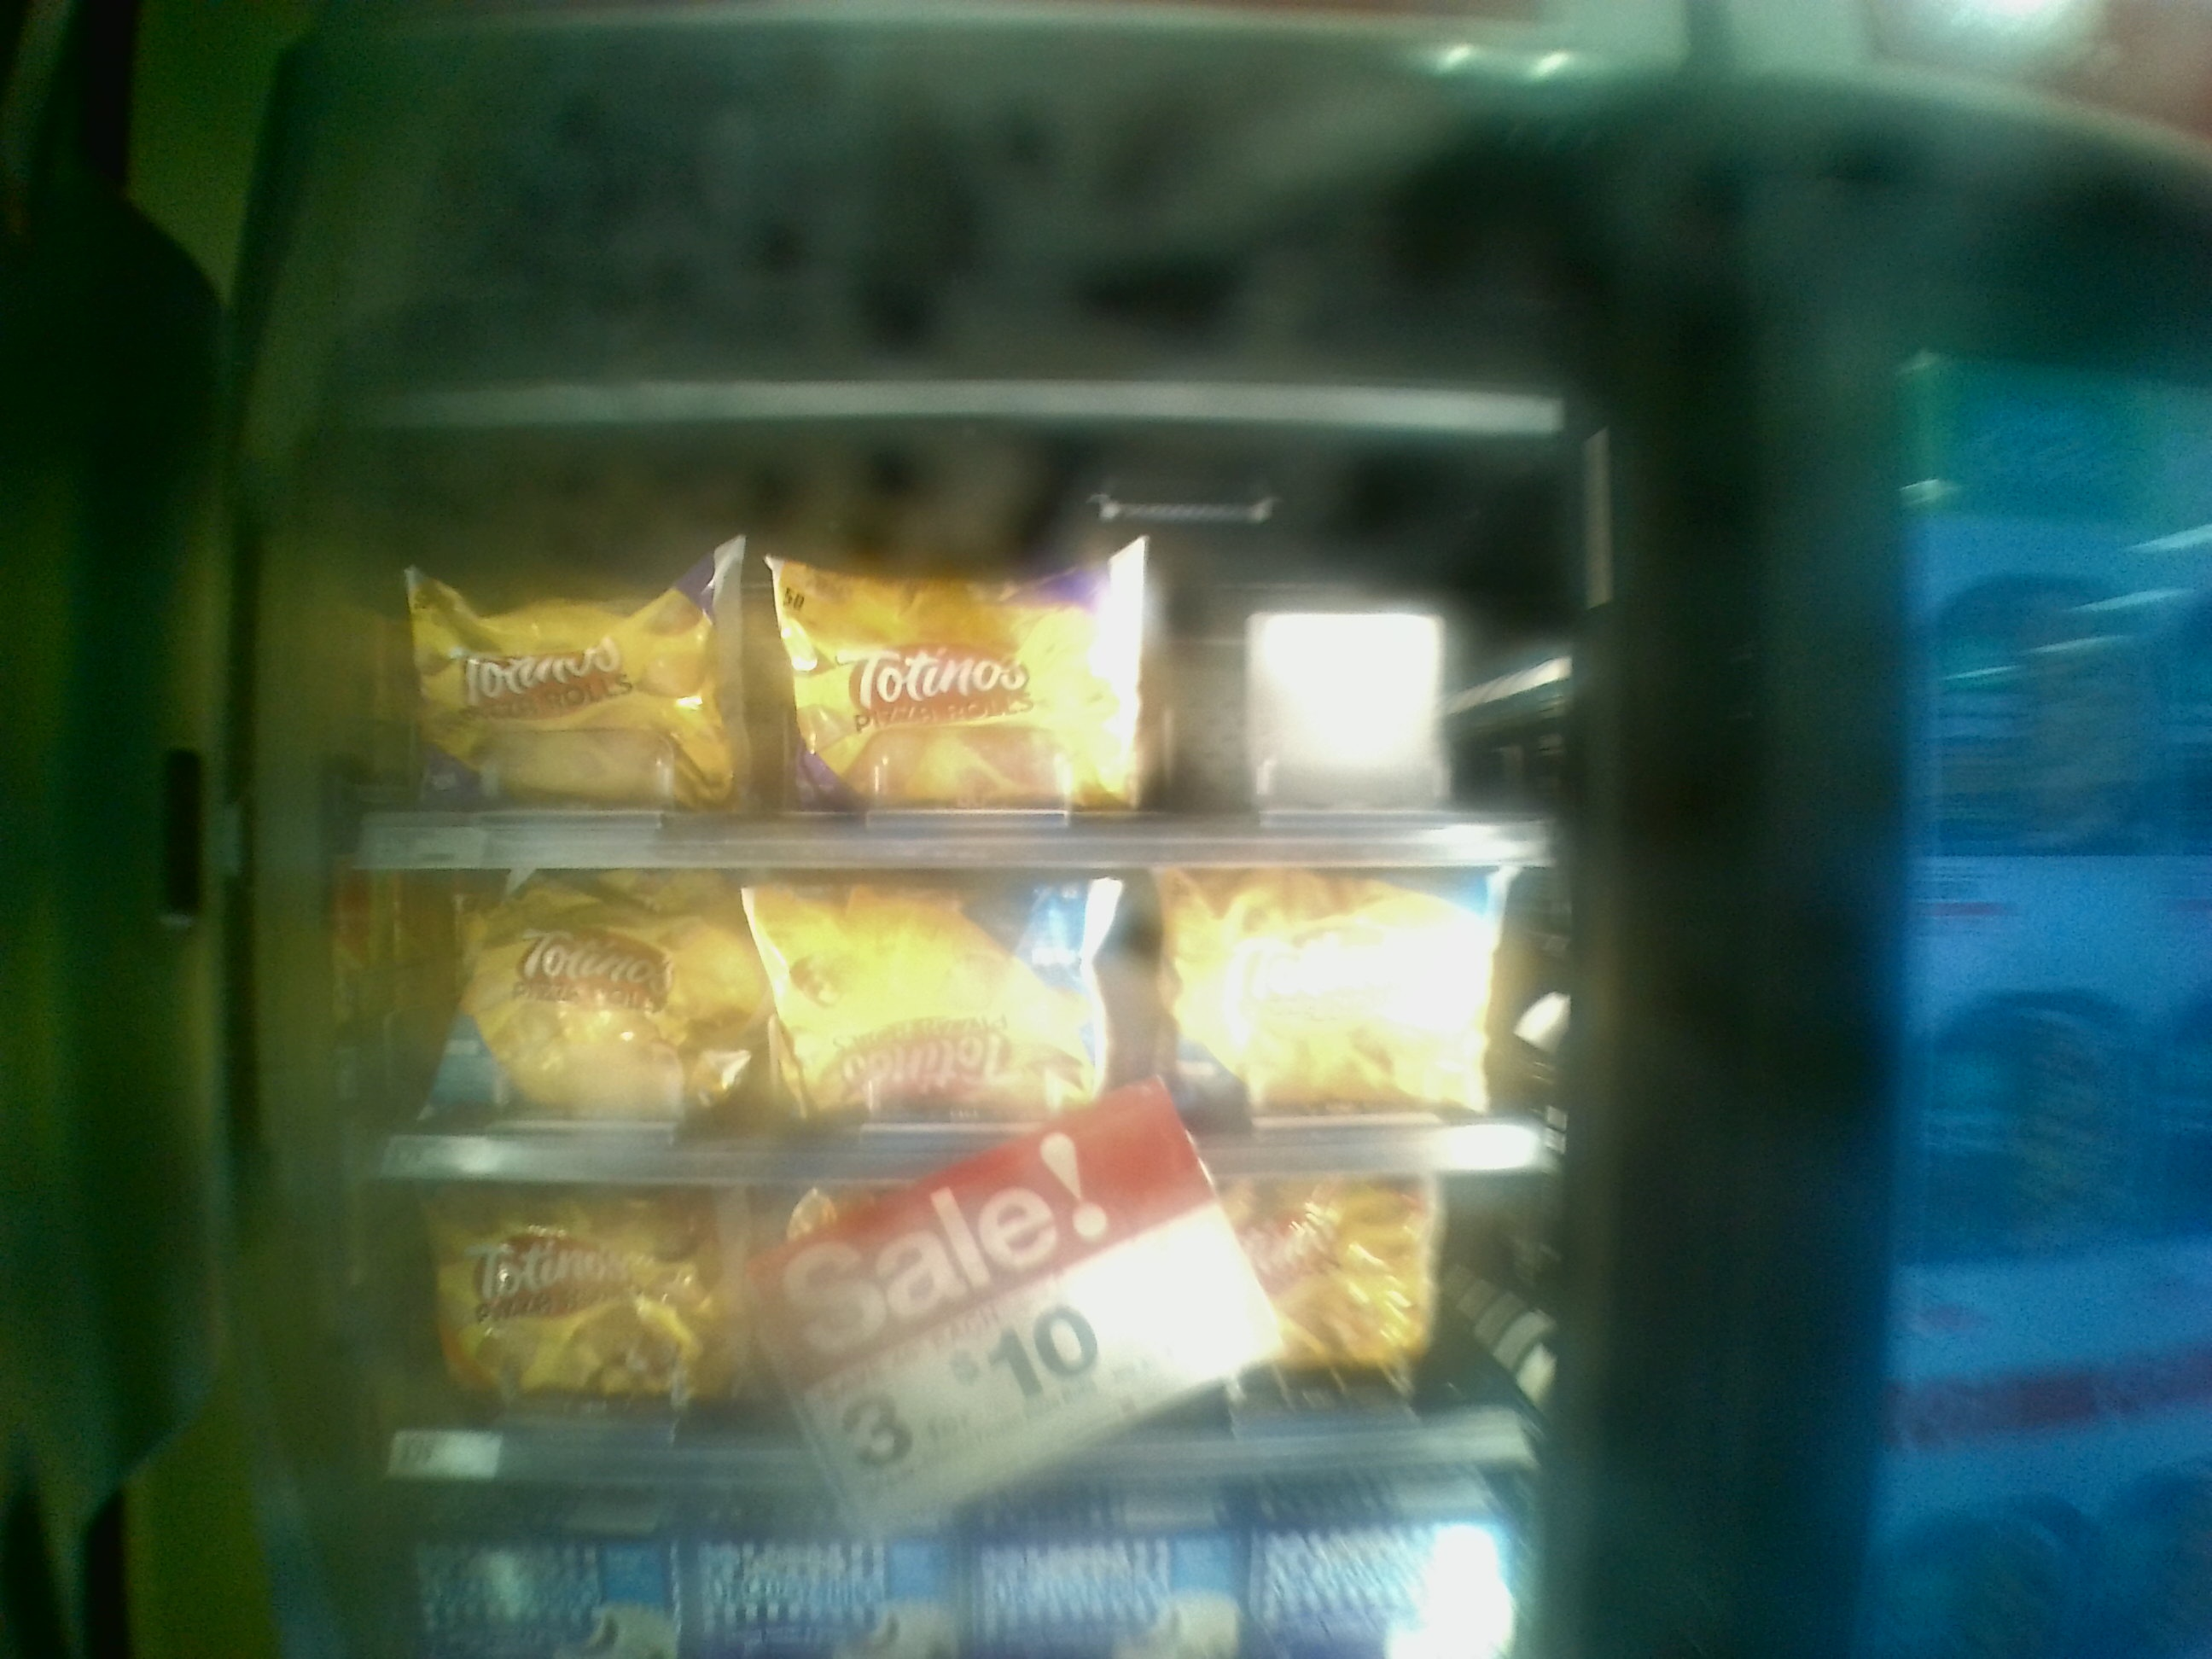shelf: (314, 450, 1559, 870), (319, 859, 1564, 1185), (314, 1185, 1569, 1500)
